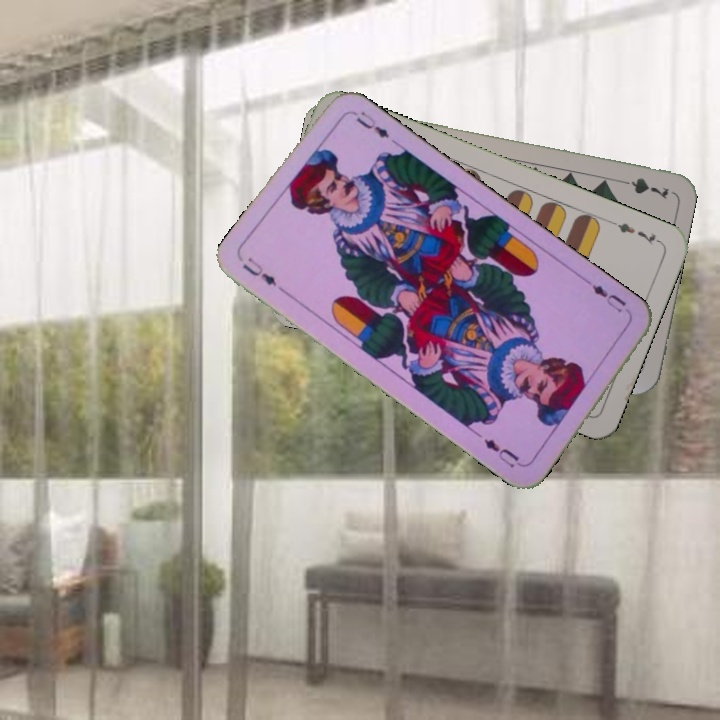E7: (607, 217, 664, 247)
EU: (588, 281, 633, 317), (238, 253, 280, 290)
G7: (613, 173, 672, 202)
